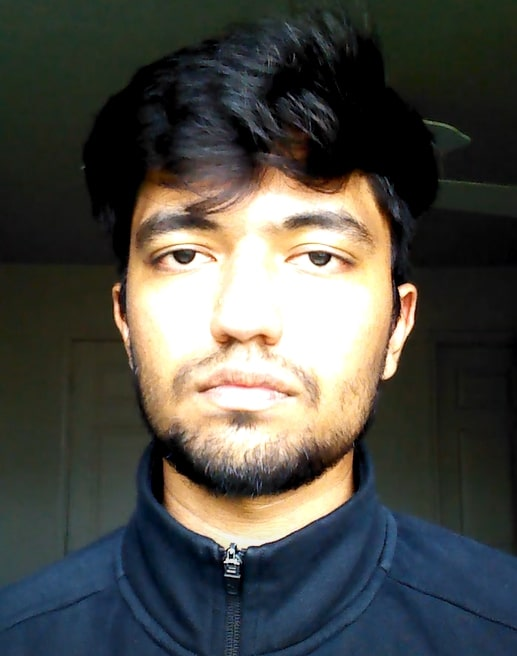Not Sleeping: (128, 207, 395, 309)
